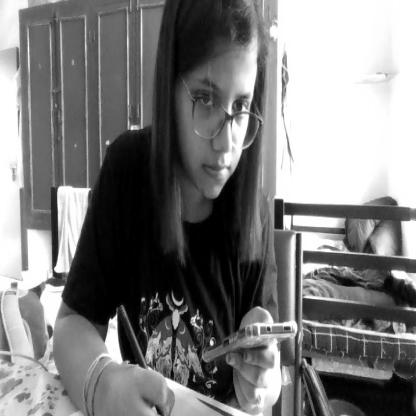Distracted: (171, 0, 268, 206)
